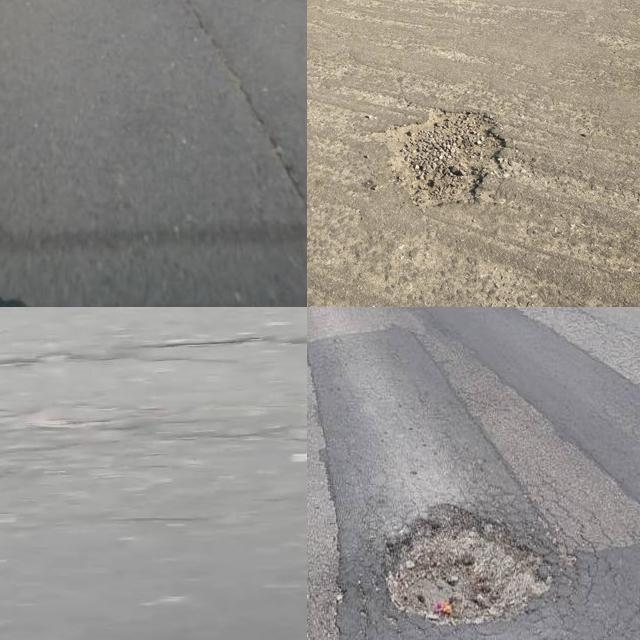Lubang: (378, 513, 545, 630), (392, 108, 502, 208)
Melintang: (0, 319, 307, 385)
Memanjang: (178, 0, 307, 250)
Sambungan: (307, 324, 640, 640)
